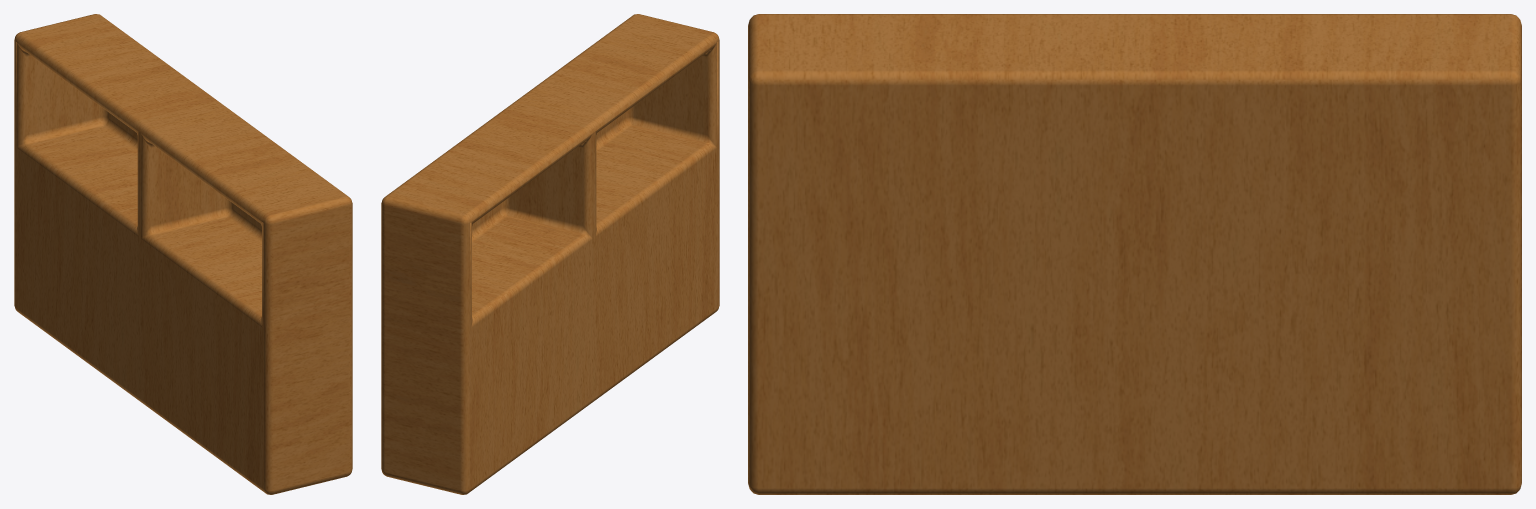
Rendered from cabecera.obj.
3 views of the same model, side by side, from view 1: azimuth 30°, elevation 25°; view 2: azimuth 150°, elevation 25°; view 3: azimuth 270°, elevation 25° (orthographic). The views are drawn at different scales.
Parts seen in each view (by area): view 1: mueble_cama.001; view 2: mueble_cama.001; view 3: mueble_cama.001.
Boxes of the visible parts, left/top/right/bottom form: mueble_cama.001: left=14, top=14, right=352, bottom=494; mueble_cama.001: left=381, top=14, right=719, bottom=494; mueble_cama.001: left=748, top=14, right=1521, bottom=494.
Bounding box in the file's own units: 0.227 × 0.693 × 1.15.
1 material, 1 textured.
